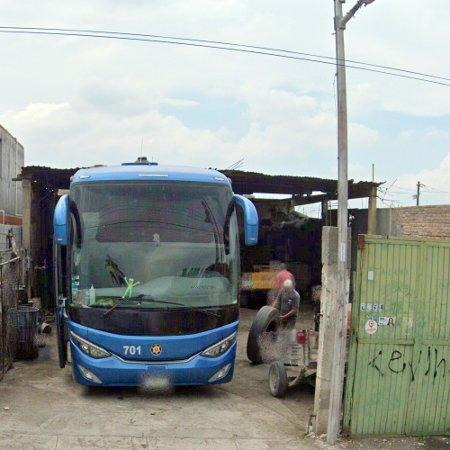buses: (54, 159, 259, 388)
